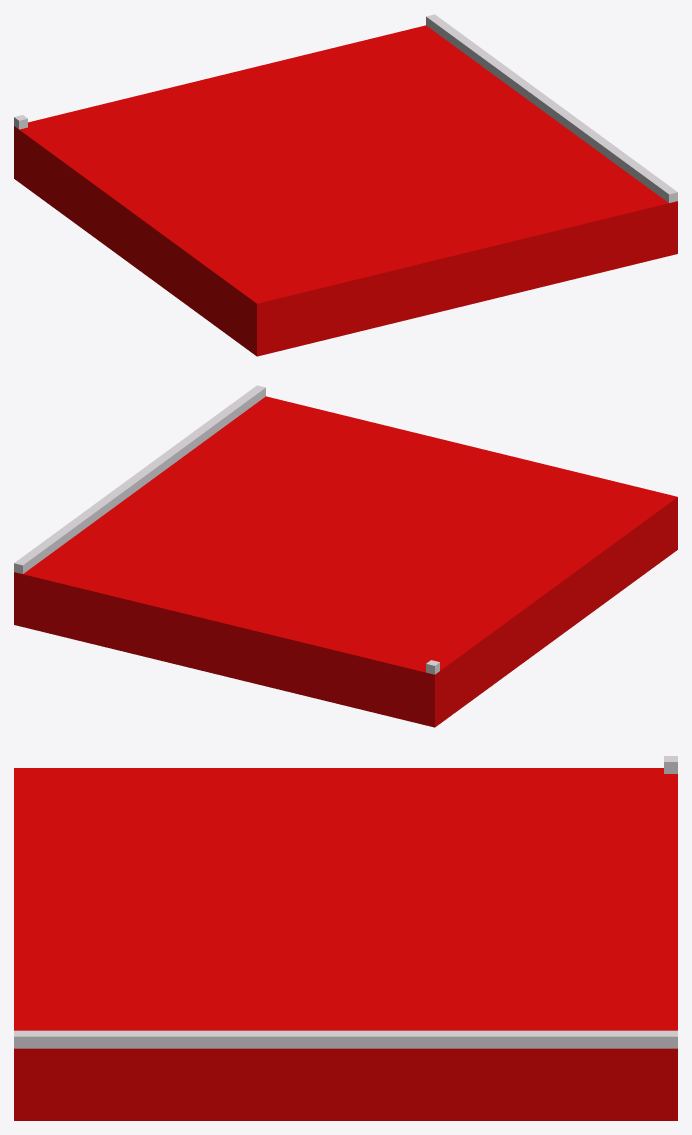
The model's file is 1side_1corner_2.glb.
3 renders of one model, top to bottom at view 1: azimuth 30°, elevation 25°; view 2: azimuth 150°, elevation 25°; view 3: azimuth 270°, elevation 25°, orthographic. The views are drawn at different scales.
Visible parts, largest first — view 1: 1side_2corner.002, center.030; view 2: 1side_2corner.002, center.030; view 3: 1side_2corner.002, center.030.
Boxes of the visible parts, x1,y1,x2,y2 form: 1side_2corner.002: (14,25,677,356); center.030: (426,14,677,202); 1side_2corner.002: (14,396,677,727); center.030: (14,385,265,573); 1side_2corner.002: (14,768,677,1120); center.030: (14,1030,677,1048).
Size of the model in its own units: 1 by 0.14 by 1.
